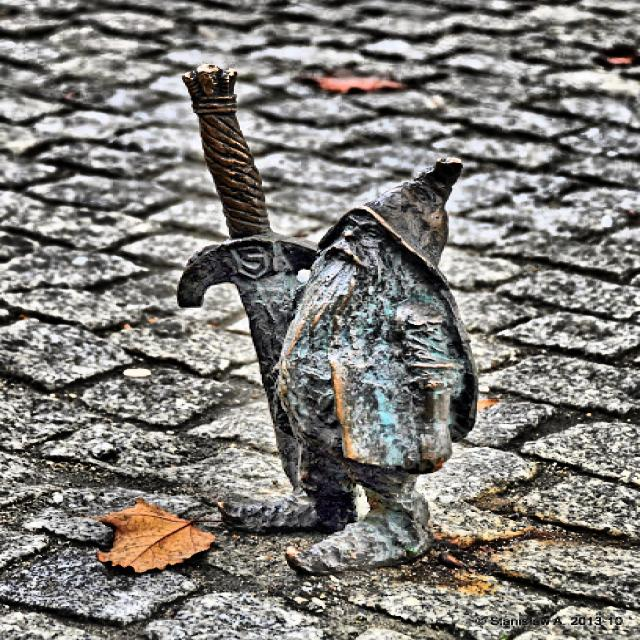Giermek_Grun-Waldek: (176, 65, 480, 580)
